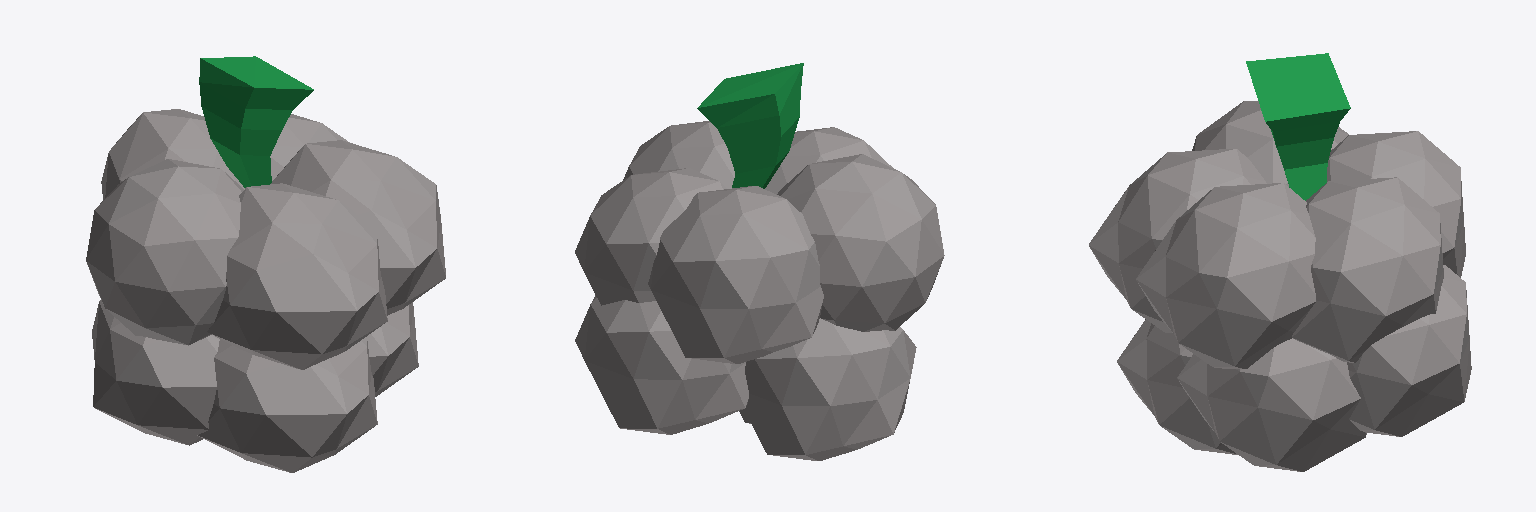
The model's file is invincible.obj.
3 views of the same model, side by side, from view 1: azimuth 30°, elevation 25°; view 2: azimuth 150°, elevation 25°; view 3: azimuth 270°, elevation 25° (orthographic).
Visible parts, largest first — view 1: Icosphere.007, Icosphere.005, Icosphere.001, Icosphere.003, Icosphere.008, Plane, Icosphere.009_Icosphere.010, Icosphere, Icosphere.006_Icosphere.009; view 2: Icosphere.009_Icosphere.010, Icosphere.005, Icosphere.008, Icosphere.004, Icosphere.006_Icosphere.009, Plane, Icosphere.003, Icosphere.007; view 3: Icosphere.003, Icosphere.006_Icosphere.009, Icosphere, Icosphere.004, Icosphere.007, Plane, Icosphere.009_Icosphere.010, Icosphere.001, Icosphere.005.
Part boxes in pixels (left/top/right/bottom): Icosphere.007: left=207, top=183, right=387, bottom=369; Icosphere.005: left=86, top=159, right=243, bottom=345; Icosphere.001: left=197, top=338, right=377, bottom=472; Icosphere.003: left=271, top=140, right=445, bottom=315; Icosphere.008: left=92, top=300, right=219, bottom=445; Plane: left=199, top=56, right=313, bottom=187; Icosphere.009_Icosphere.010: left=101, top=109, right=244, bottom=199; Icosphere: left=365, top=302, right=418, bottom=396; Icosphere.006_Icosphere.009: left=270, top=114, right=349, bottom=180; Icosphere.009_Icosphere.010: left=648, top=186, right=823, bottom=363; Icosphere.005: left=777, top=154, right=944, bottom=331; Icosphere.008: left=744, top=318, right=916, bottom=460; Icosphere.004: left=575, top=295, right=748, bottom=434; Icosphere.006_Icosphere.009: left=575, top=168, right=726, bottom=305; Plane: left=697, top=63, right=803, bottom=188; Icosphere.003: left=623, top=121, right=734, bottom=188; Icosphere.007: left=765, top=127, right=892, bottom=194; Icosphere.003: left=1136, top=183, right=1315, bottom=368; Icosphere.006_Icosphere.009: left=1292, top=177, right=1443, bottom=362; Icosphere: left=1177, top=338, right=1366, bottom=471; Icosphere.004: left=1347, top=265, right=1471, bottom=436; Icosphere.007: left=1089, top=149, right=1266, bottom=332; Plane: left=1246, top=53, right=1350, bottom=200; Icosphere.009_Icosphere.010: left=1327, top=131, right=1465, bottom=277; Icosphere.001: left=1117, top=319, right=1237, bottom=454; Icosphere.005: left=1192, top=101, right=1348, bottom=186.
Size of the model in its own units: 1.94 by 2.19 by 2.03.